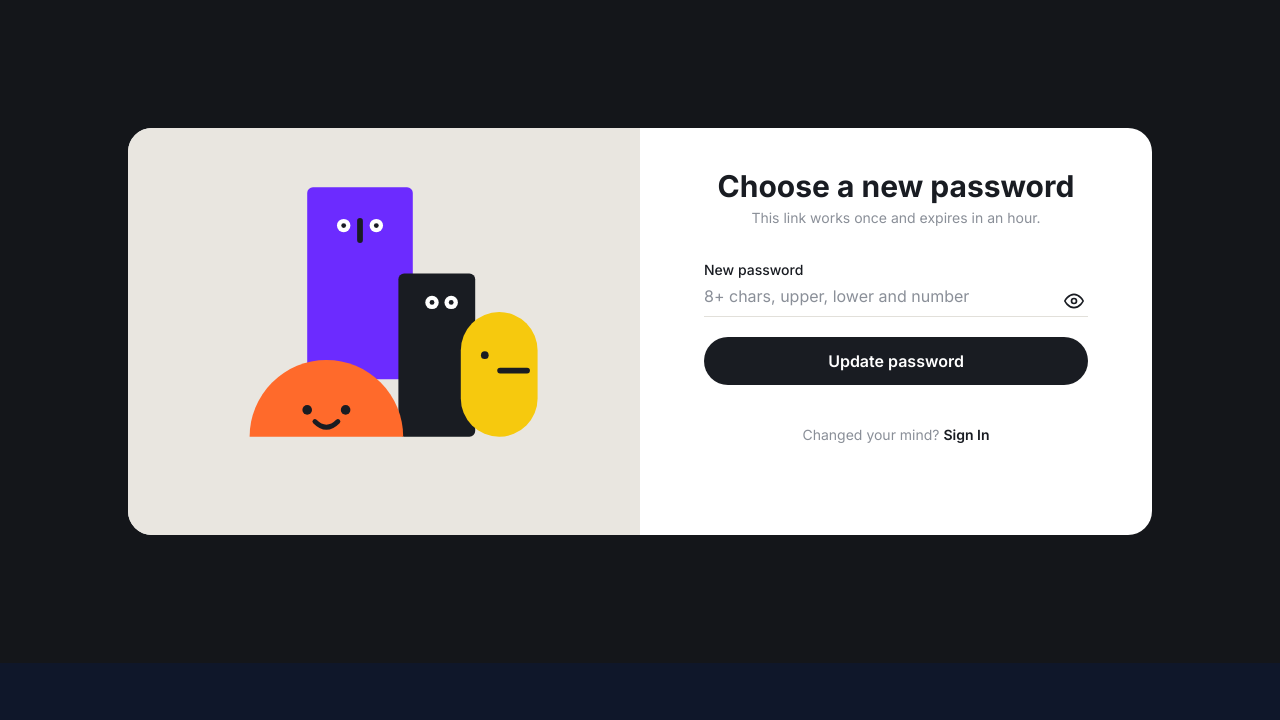
ResetPasswordPage submission › surfaces an invalid or expired token
Type "Str0ngPassw0rd" into the password field labelled "New password" at coordinates (896, 301), box [704,284,1088,317]
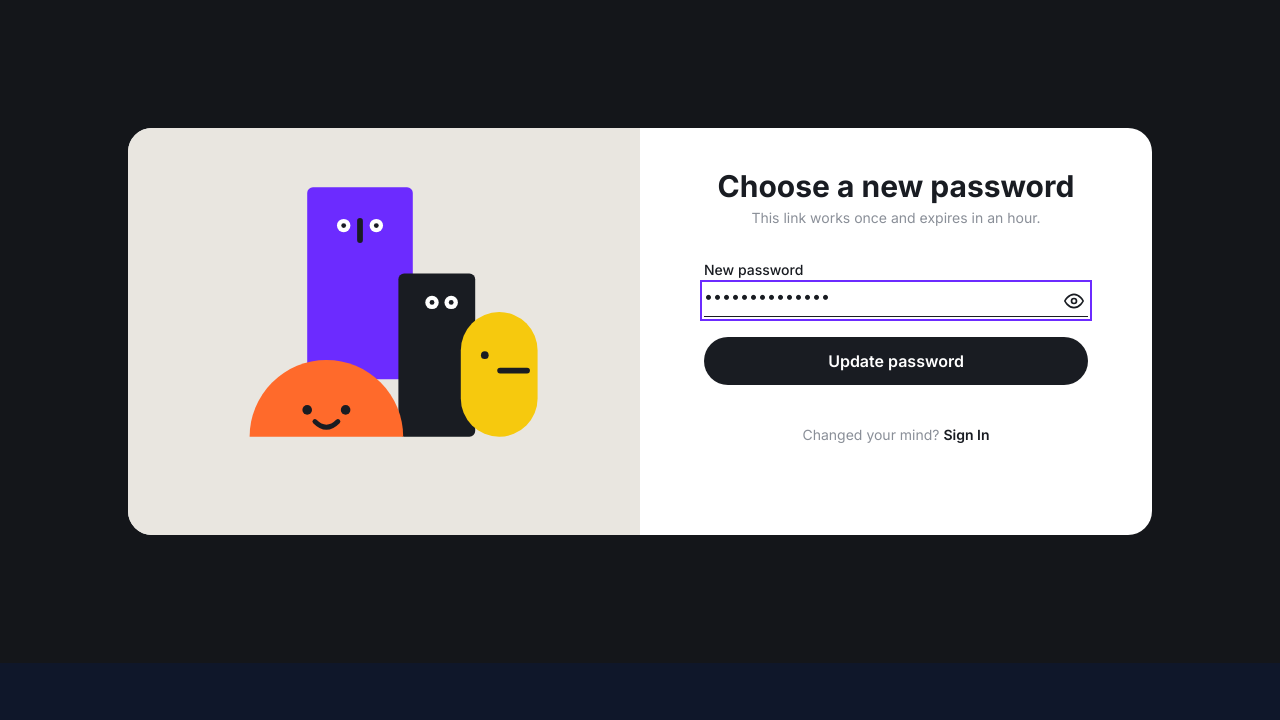
Click the button "Update password" at coordinates (896, 361), box [704,337,1088,385]
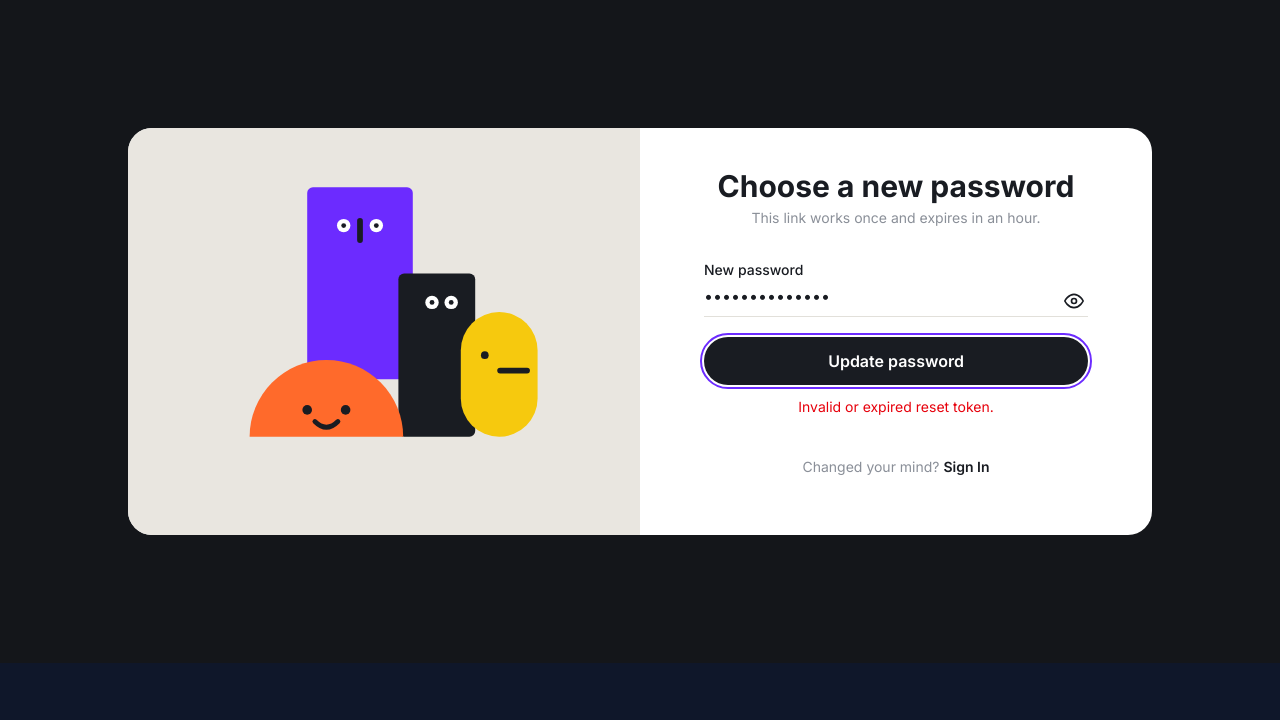
Expected: the text "Invalid or expired reset token." is shown, [798,398,994,415]
